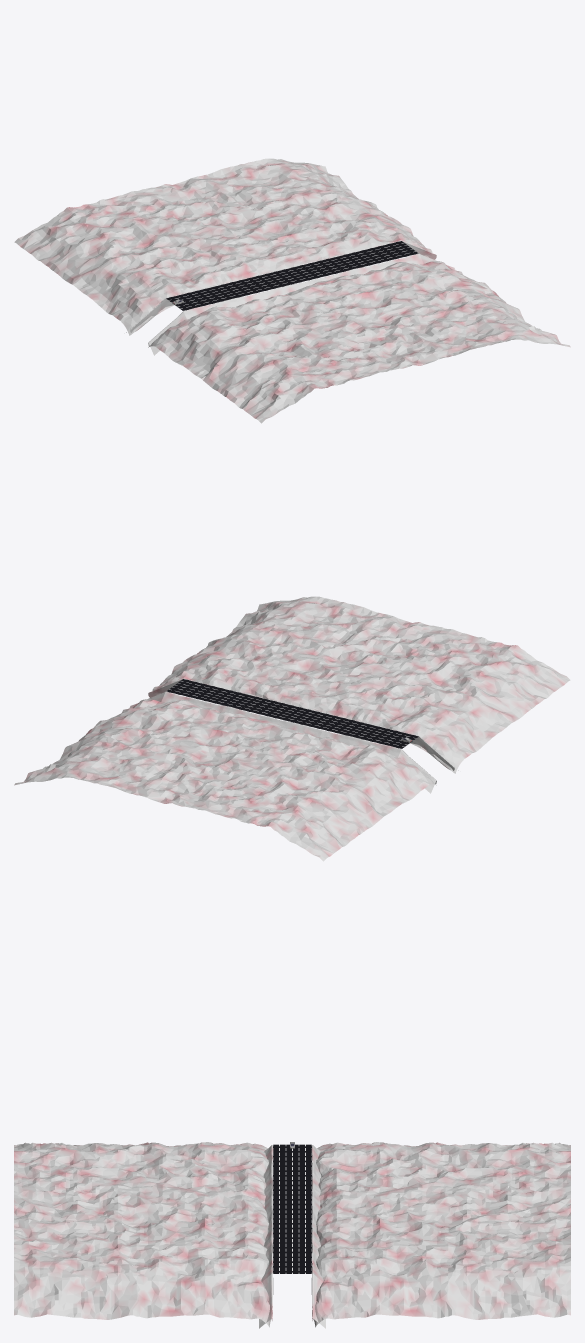
The model's file is Level_6_Art.fbx.
The picture shows the model from 3 angles, top to bottom: view 1: azimuth 30°, elevation 25°; view 2: azimuth 150°, elevation 25°; view 3: azimuth 270°, elevation 25°; orthographic projection. The views are drawn at different scales.
Parts seen in each view (by area): view 1: Plains.001, Road, Plains; view 2: Plains.001, Road, Plains; view 3: Plains.001, Road, Plains.
Part boxes in pixels (box(x1,y1,x2,y2)): Plains.001: box(14, 158, 570, 423); Road: box(166, 241, 418, 310); Plains: box(126, 240, 455, 355); Plains.001: box(14, 596, 570, 861); Road: box(166, 679, 418, 748); Plains: box(129, 678, 458, 793); Plains.001: box(14, 1142, 570, 1327); Road: box(273, 1144, 311, 1273); Plains: box(259, 1145, 325, 1328).
Size of the model in its own units: 14245 by 11388 by 19638.
